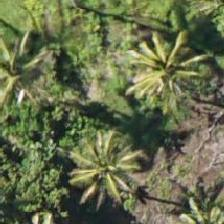coconut_tree: (61, 124, 151, 214), (57, 124, 147, 214), (124, 27, 214, 117), (0, 27, 56, 117), (172, 0, 223, 48)
